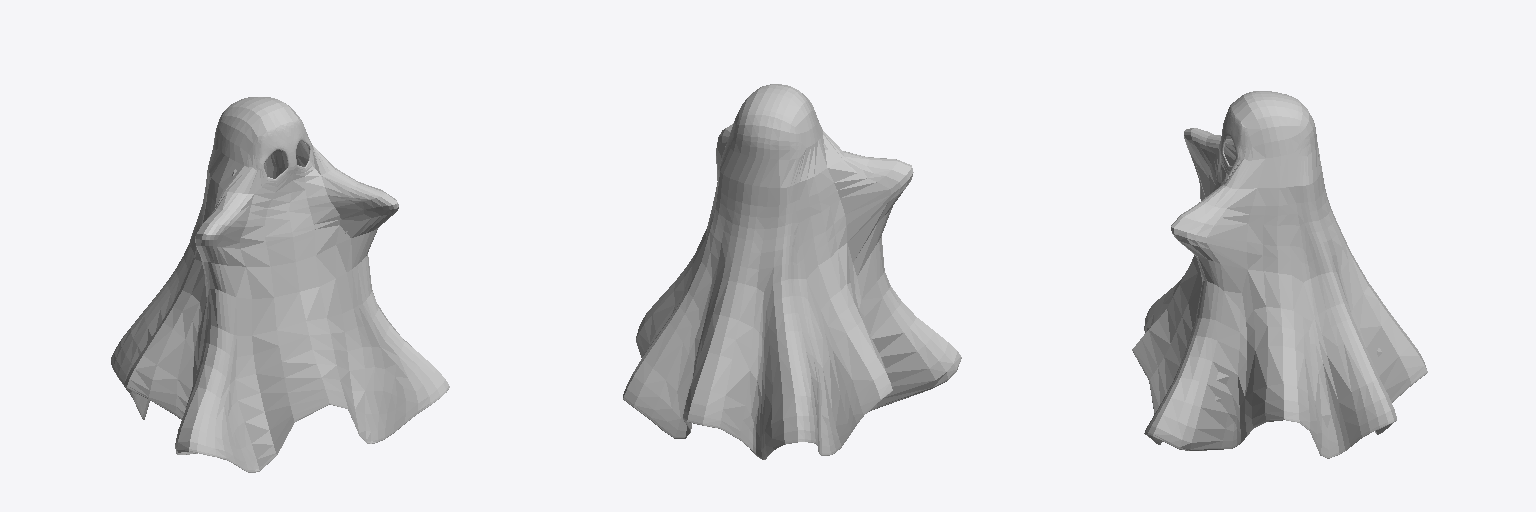
3 views of the same model, side by side, from view 1: azimuth 30°, elevation 25°; view 2: azimuth 150°, elevation 25°; view 3: azimuth 270°, elevation 25° (orthographic).
Visible parts, largest first — view 1: youlinguu2:Group3 walk1; view 2: youlinguu2:Group3 walk1; view 3: youlinguu2:Group3 walk1.
Boxes of the visible parts, box(x1,y1,x2,y2) form: youlinguu2:Group3 walk1: box(111, 97, 449, 472); youlinguu2:Group3 walk1: box(623, 84, 961, 459); youlinguu2:Group3 walk1: box(1132, 91, 1427, 458).
Bounding box in the file's own units: 34.47 × 39.53 × 33.04.